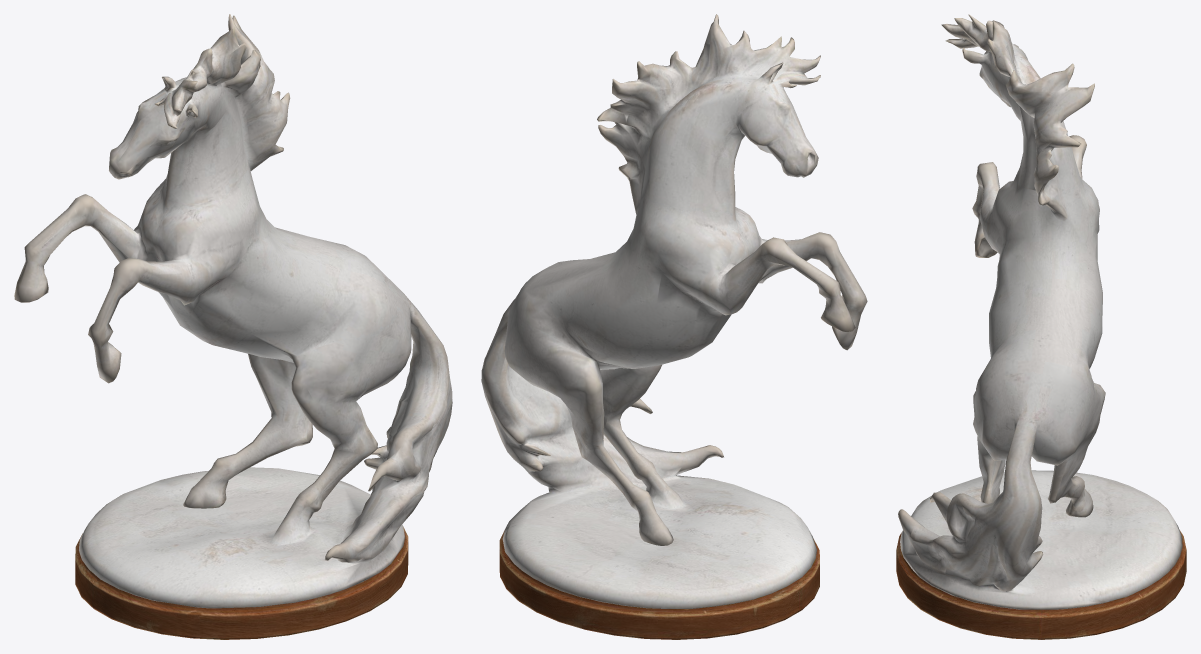
File: horse_statue_01_1k.gltf
3 views of the same model, side by side, from view 1: azimuth 30°, elevation 25°; view 2: azimuth 150°, elevation 25°; view 3: azimuth 270°, elevation 25° (orthographic). The views are drawn at different scales.
Visible parts, largest first — view 1: horse_statue_01; view 2: horse_statue_01; view 3: horse_statue_01.
Boxes of the visible parts, x1,y1,x2,y2 form: horse_statue_01: (14,14,452,639); horse_statue_01: (481,14,867,639); horse_statue_01: (896,14,1186,639).
Bounding box in the file's own units: 0.1638 × 0.22 × 0.1078.
Materials: 2 (2 with a texture image).
